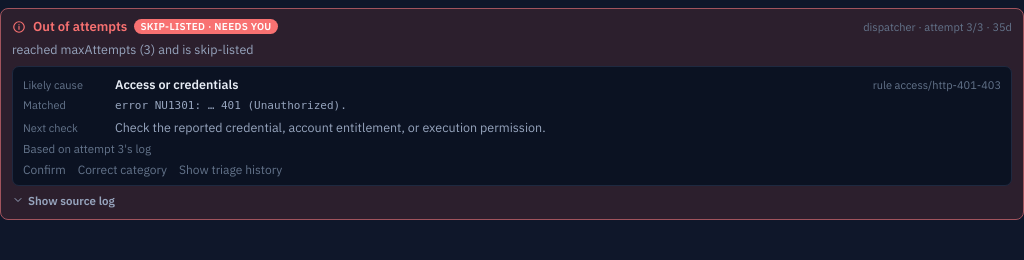
Scenario: failure triage in the failure banner › surfaces a rejected save instead of looking inert
This screenshot has width=1024, height=260.
Click the button "Confirm": click(44, 169) [23,162,66,177]
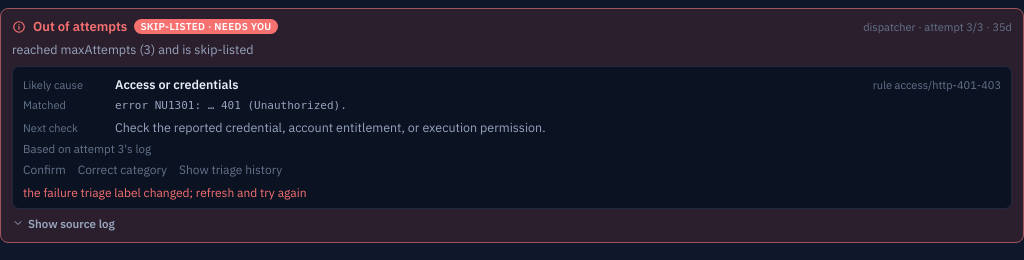
Expected: the message shows "label changed", [23,185,307,200]
